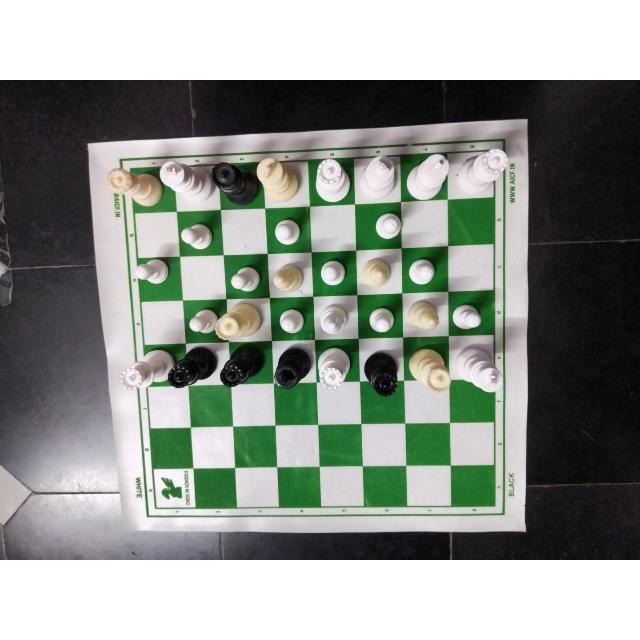black-king: (271, 346, 313, 388)
black-queen: (168, 343, 221, 391), (217, 344, 262, 388), (359, 351, 402, 397), (210, 159, 255, 202)
white-bishop: (410, 294, 442, 337), (313, 304, 351, 339), (358, 250, 391, 289), (269, 256, 305, 289)
white-king: (156, 159, 211, 208), (455, 346, 505, 392), (404, 151, 448, 197), (255, 159, 303, 200), (359, 156, 397, 201)
white-pawn: (177, 218, 217, 254), (132, 256, 172, 286), (371, 206, 403, 239), (452, 297, 484, 330), (226, 267, 263, 295), (270, 216, 304, 245), (368, 306, 403, 333), (185, 306, 214, 337), (406, 259, 437, 287), (276, 307, 306, 335), (322, 258, 350, 288)
white-queen: (407, 344, 455, 394), (455, 148, 504, 196), (120, 348, 172, 392), (108, 163, 159, 204), (214, 300, 261, 340), (310, 156, 350, 202), (313, 345, 351, 390)
